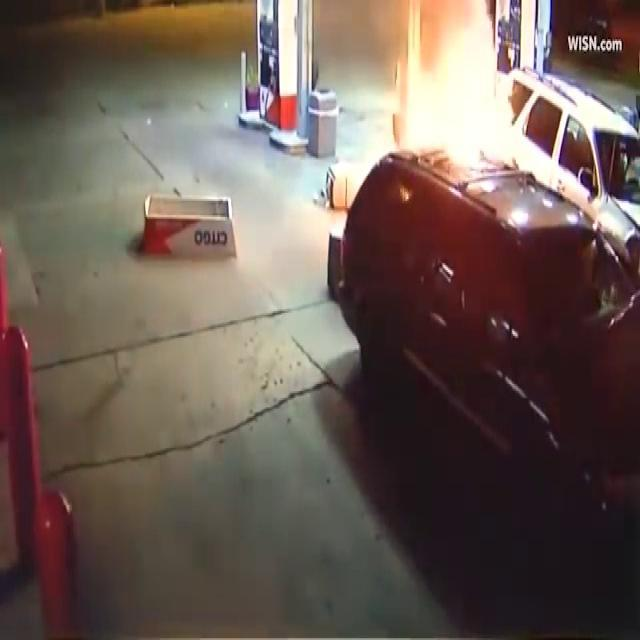Fire: (389, 2, 529, 182)
